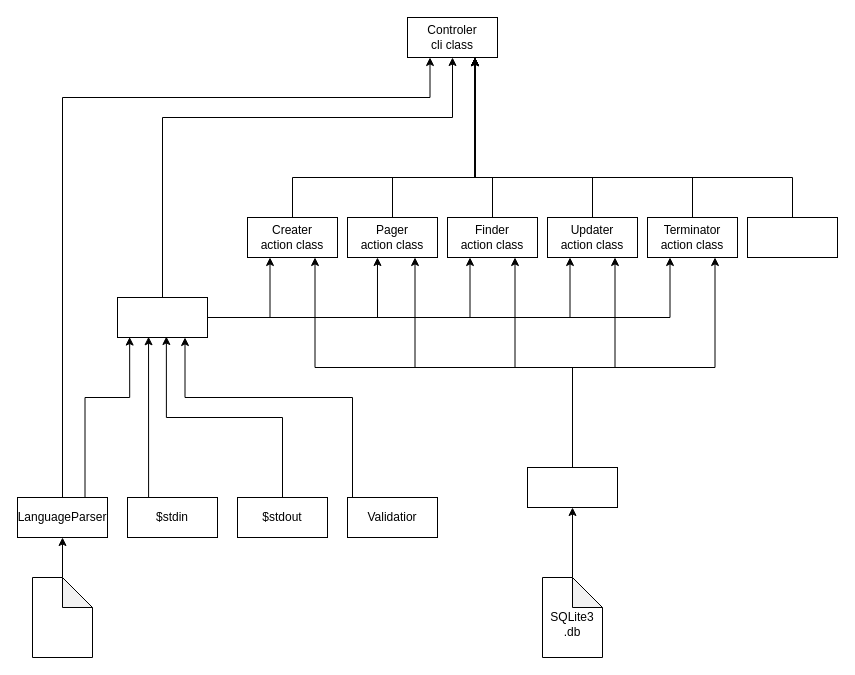
Image size: 855x675. Some labels were removed from this diagram. The shapes that lost their labels are listed below. From the top down, each one's box as (x1, y1, x2, y2) in pixels, then its label:
(746, 216, 838, 258): NullAction action class
(116, 296, 208, 338): UserInterface cli class
(526, 466, 618, 508): SQLite database class
(32, 576, 92, 658): language .yml
